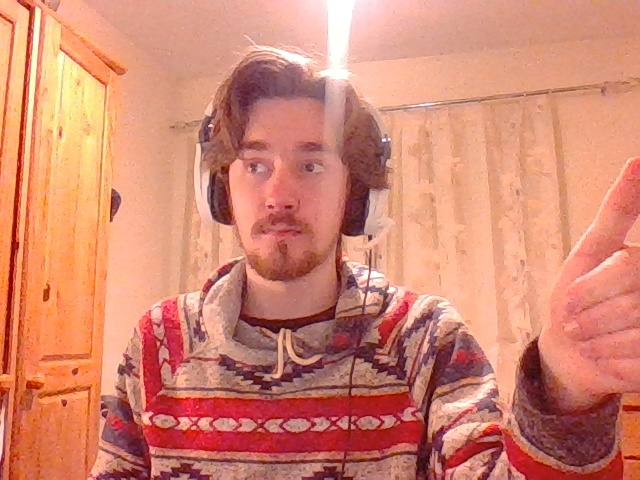good: (543, 155, 640, 388)
